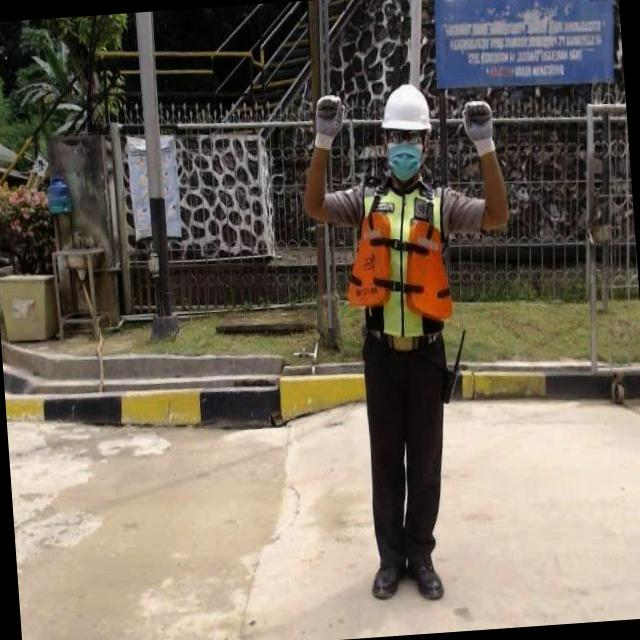vest: (340, 178, 454, 341)
